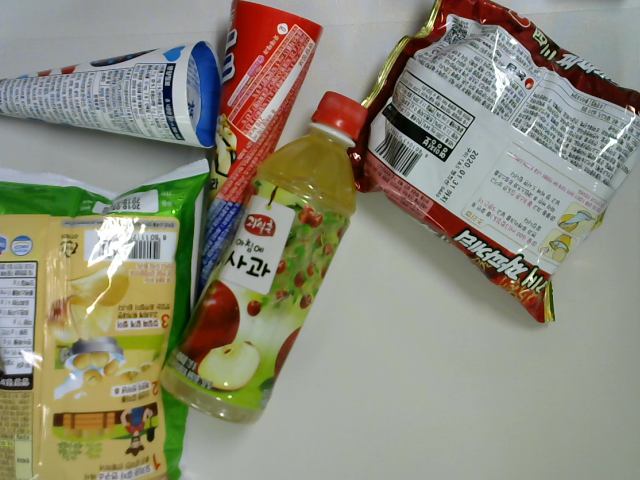Bravo_Cone_(Banila)_CVS: (1, 40, 231, 154)
Morning_Apple_500ml: (152, 87, 373, 427)
Pocachip_Onion: (1, 153, 222, 477)
Sichuan_Chapaghetti: (336, 1, 639, 332)
World_Cone_Banila: (192, 1, 328, 365)
